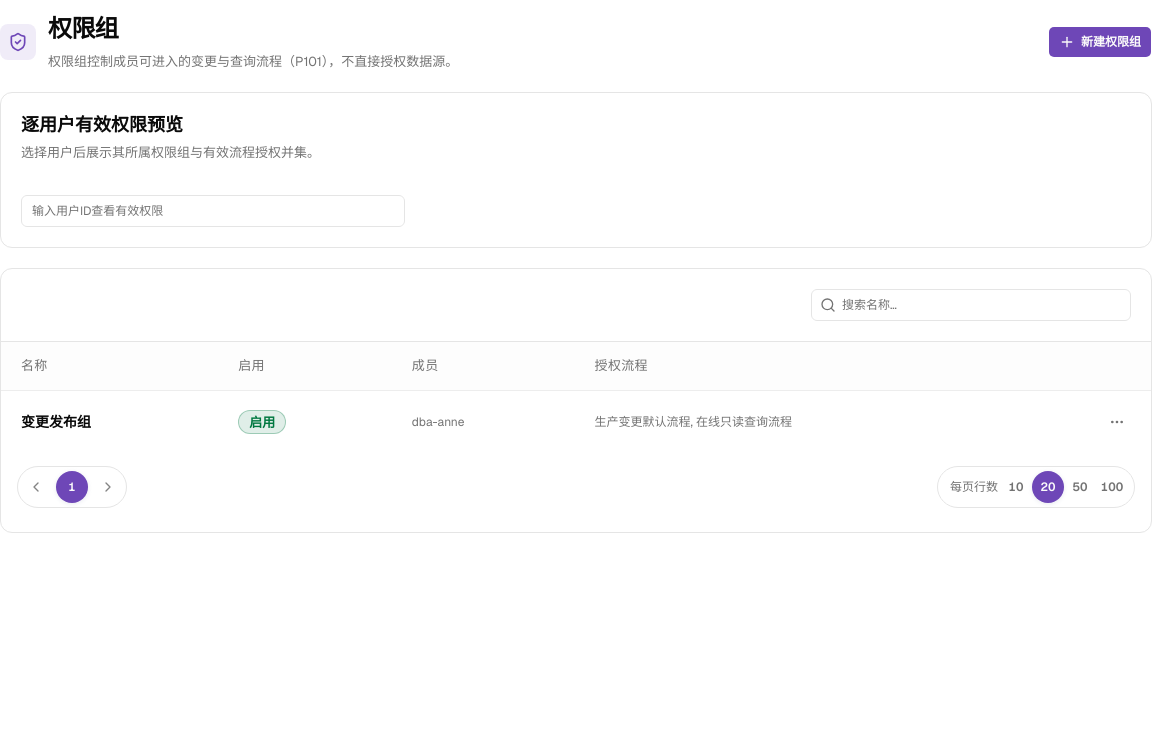
Test: admin table search (§18.37) › permission groups: filters by group name
Check: the heading "权限组" is shown, box [48, 13, 118, 44]
Check: the row with test id "admin-group-row-" is shown, box [1, 390, 1151, 454]
Type "变更发布组" into the field with test id "admin-groups-search" at coordinates (983, 305), box [836, 289, 1130, 321]
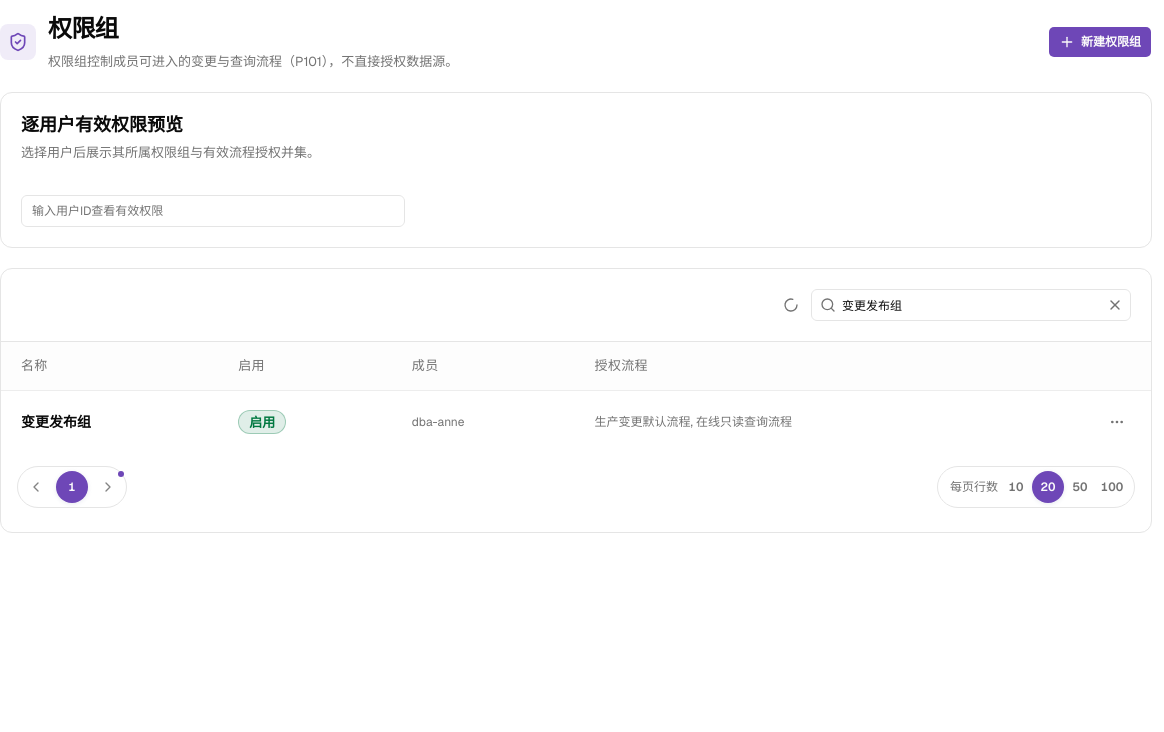
Replace the text in the field with test id "admin-groups-search" with "不存在" at coordinates (969, 305), box [836, 289, 1103, 321]
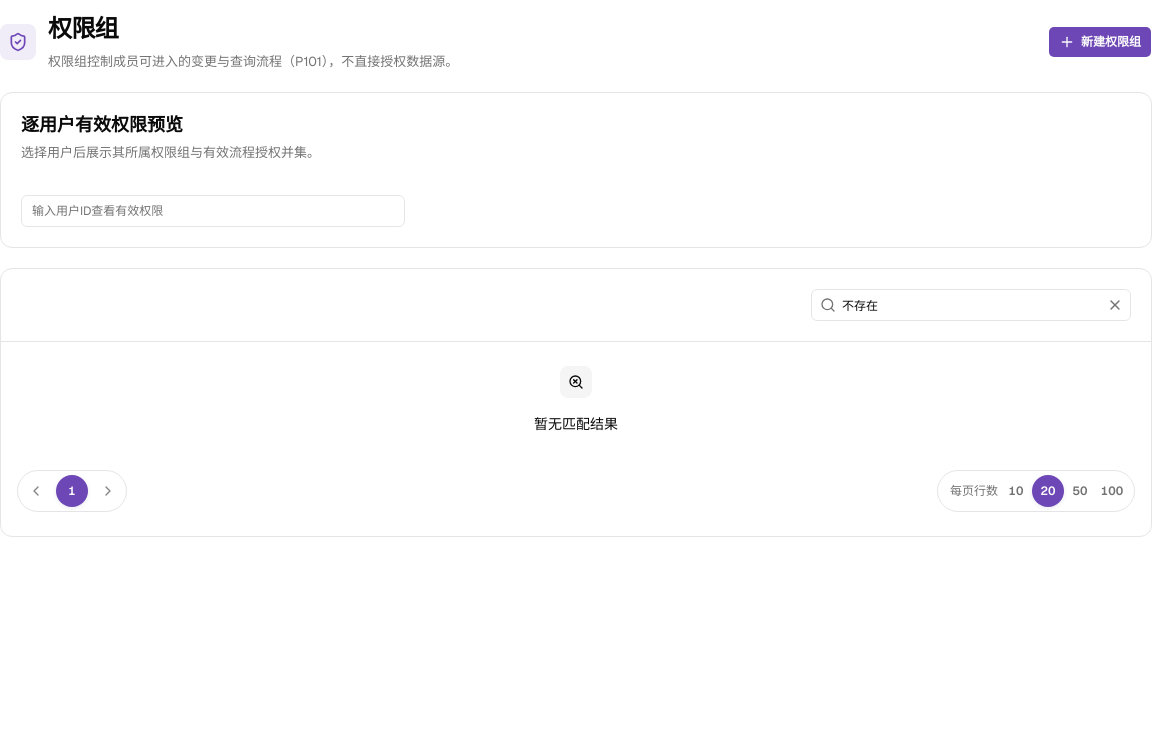
Check: the text "暂无匹配结果" is shown, box [534, 414, 618, 434]
